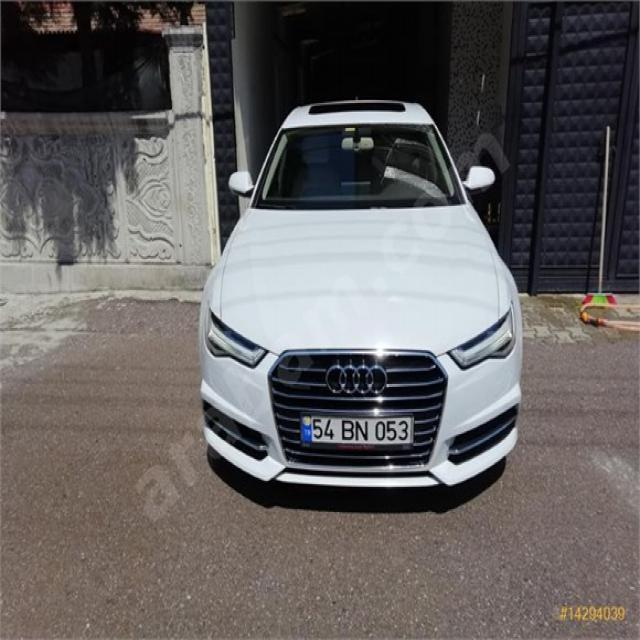plate: (299, 410, 414, 451)
